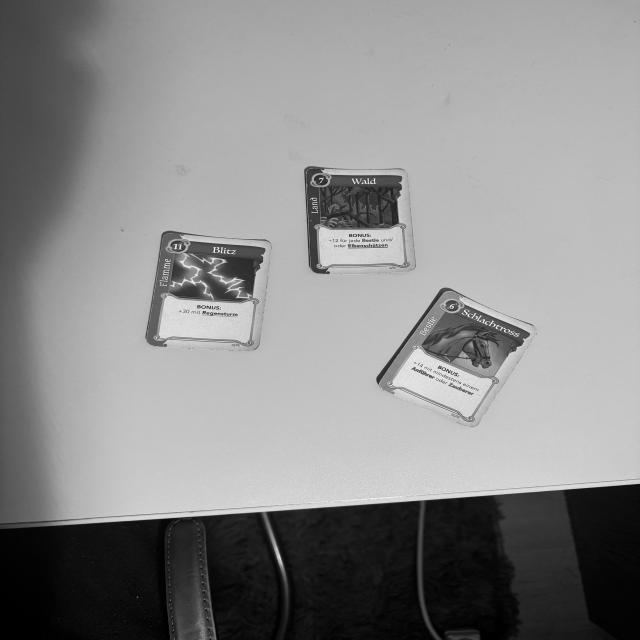Forest: (301, 163, 419, 277)
Lightning: (139, 227, 272, 356)
War Horse: (373, 285, 545, 431)
